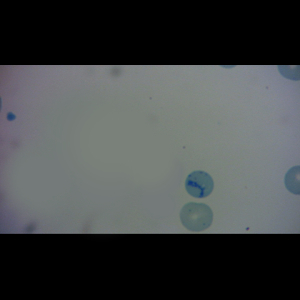aggregate reticulocyte: (184, 169, 215, 199)
punctate reticulocyte: (178, 200, 215, 233)
